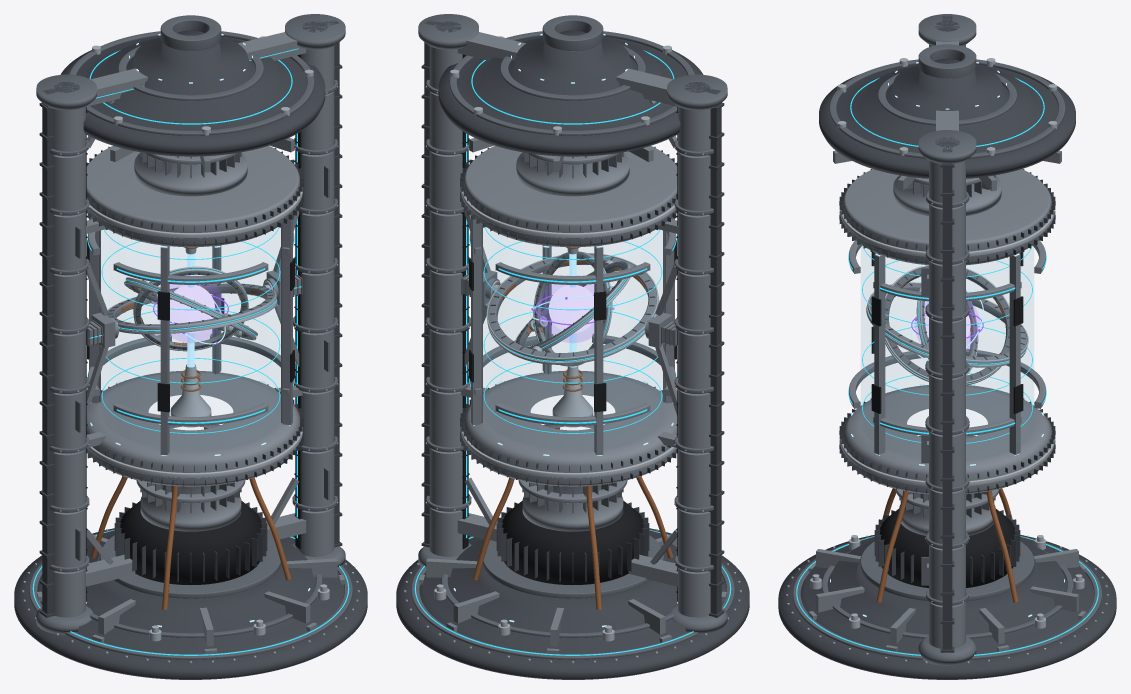
File: reactor_model.glb
3 views of the same model, side by side, from view 1: azimuth 30°, elevation 25°; view 2: azimuth 150°, elevation 25°; view 3: azimuth 270°, elevation 25° (orthographic). The views are drawn at different scales.
Parts seen in each view (by area): view 1: column_armor_sleeves (×2), chamber_collars, base_platform, upper_housing_plates, containment_glass, column_spine (×2), base_ceramic_insulator, base_machined_rings, upper_machined_rings, frame_rails_main, column_mounts (×2), frame_segmented_bands (+32 smaller); view 2: column_armor_sleeves (×2), chamber_collars, base_platform, upper_housing_plates, containment_glass, column_spine (×2), base_ceramic_insulator, base_machined_rings, upper_machined_rings, frame_rails_main, column_mounts (×2), column_coupling_collars (×2) (+31 smaller); view 3: base_platform, chamber_collars, upper_housing_plates, column_armor_sleeves, containment_glass, base_machined_rings, column_spine, upper_machined_rings, column_mounts (×2), frame_rails_main, base_ceramic_insulator, base_radial_brackets (+23 smaller).
Boxes of the visible parts, x1,y1,x2,y2 form: column_armor_sleeves (×2): [53, 46, 334, 617]; chamber_collars: [86, 146, 299, 486]; base_platform: [14, 528, 367, 679]; upper_housing_plates: [60, 30, 325, 156]; containment_glass: [100, 228, 280, 405]; column_spine (×2): [39, 20, 342, 617]; base_ceramic_insulator: [120, 500, 261, 584]; base_machined_rings: [29, 529, 352, 659]; upper_machined_rings: [69, 15, 314, 135]; frame_rails_main: [89, 215, 292, 455]; column_mounts (×2): [36, 14, 345, 634]; frame_segmented_bands: [88, 230, 293, 425]; column_armor_sleeves (×2): [429, 46, 710, 617]; chamber_collars: [464, 146, 677, 486]; base_platform: [396, 528, 749, 679]; upper_housing_plates: [438, 30, 703, 156]; containment_glass: [483, 228, 663, 405]; column_spine (×2): [421, 20, 724, 617]; base_ceramic_insulator: [502, 500, 643, 584]; base_machined_rings: [411, 529, 734, 659]; upper_machined_rings: [449, 15, 694, 135]; frame_rails_main: [471, 215, 674, 455]; column_mounts (×2): [418, 14, 727, 634]; column_coupling_collars (×2): [426, 79, 713, 572]; base_platform: [778, 535, 1116, 679]; chamber_collars: [843, 169, 1051, 494]; upper_housing_plates: [819, 59, 1075, 178]; column_armor_sleeves: [929, 160, 965, 648]; containment_glass: [861, 245, 1033, 416]; base_machined_rings: [793, 536, 1101, 659]; column_spine: [940, 146, 954, 652]; upper_machined_rings: [829, 44, 1065, 158]; column_mounts (×2): [918, 14, 976, 665]; frame_rails_main: [874, 252, 1020, 454]; base_ceramic_insulator: [880, 508, 1014, 587]; base_radial_brackets: [808, 549, 1086, 651].
Size of the model in its own units: 14 by 25.28 by 14.
